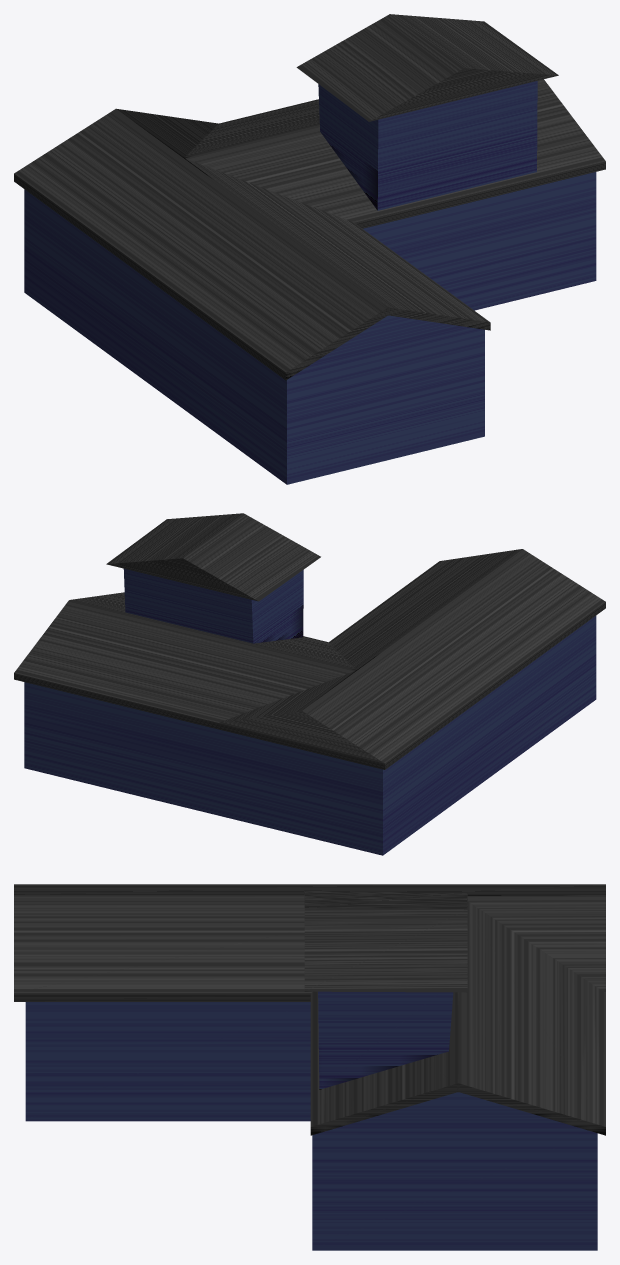
The model's file is House 4.glb.
The picture shows the model from 3 angles, top to bottom: view 1: azimuth 30°, elevation 25°; view 2: azimuth 150°, elevation 25°; view 3: azimuth 270°, elevation 25°; orthographic projection. The views are drawn at different scales.
Visible parts, largest first — view 1: Cube.005, Cube.004, Cube.008, Cube.006; view 2: Cube.005, Cube.004, Cube.006, Cube.008; view 3: Cube.005, Cube.004, Cube.006, Cube.008.
Part boxes in pixels (x1,y1,x2,y2): Cube.005: (14,79,605,380); Cube.004: (24,172,596,484); Cube.008: (318,81,537,210); Cube.006: (296,14,558,121); Cube.005: (14,549,605,769); Cube.004: (24,616,596,855); Cube.006: (106,513,320,601); Cube.008: (123,568,303,643); Cube.005: (14,884,605,1135); Cube.004: (25,1002,597,1250); Cube.006: (304,890,467,992); Cube.008: (318,991,453,1089).
Size of the model in its own units: 55.5 by 28.84 by 57.25.
4 materials, 4 textured.
